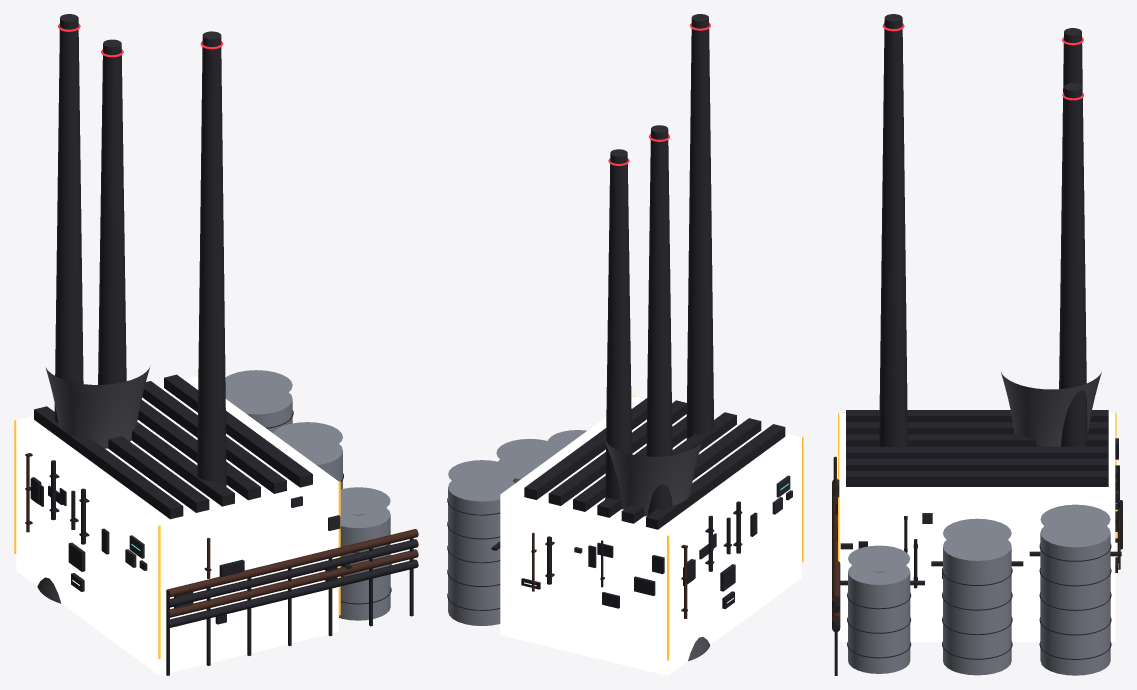
The model's file is industrial.glb.
The picture shows the model from 3 angles, left to right: view 1: azimuth 30°, elevation 25°; view 2: azimuth 150°, elevation 25°; view 3: azimuth 270°, elevation 25°; orthographic projection. The views are drawn at different scales.
Parts seen in each view (by area): view 1: facade_concrete, concrete_dark, metal_dark, metal_light, concrete, rust, neon_amber; view 2: facade_concrete, concrete_dark, metal_dark, metal_light, concrete, neon_amber; view 3: metal_light, concrete_dark, metal_dark, facade_concrete, concrete, rust.
Part boxes in pixels (x1,y1,x2,y2): facade_concrete: (16,376,338,675); concrete_dark: (54,14,340,608); metal_dark: (25,374,418,675); metal_light: (225,370,390,620); concrete: (37,366,150,603); rust: (26,453,418,617); neon_amber: (14,420,340,659); facade_concrete: (500,396,801,675); concrete_dark: (574,14,790,553); metal_dark: (447,398,792,612); metal_light: (448,430,586,625); concrete: (604,439,710,661); neon_amber: (633,395,803,660); metal_light: (848,504,1110,675); concrete_dark: (836,14,1118,549); metal_dark: (832,410,1122,675); facade_concrete: (839,413,1115,641); concrete: (1001,372,1101,446); rust: (832,456,1120,622).
Size of the model in its own units: 32.25 by 70.62 by 32.22.
